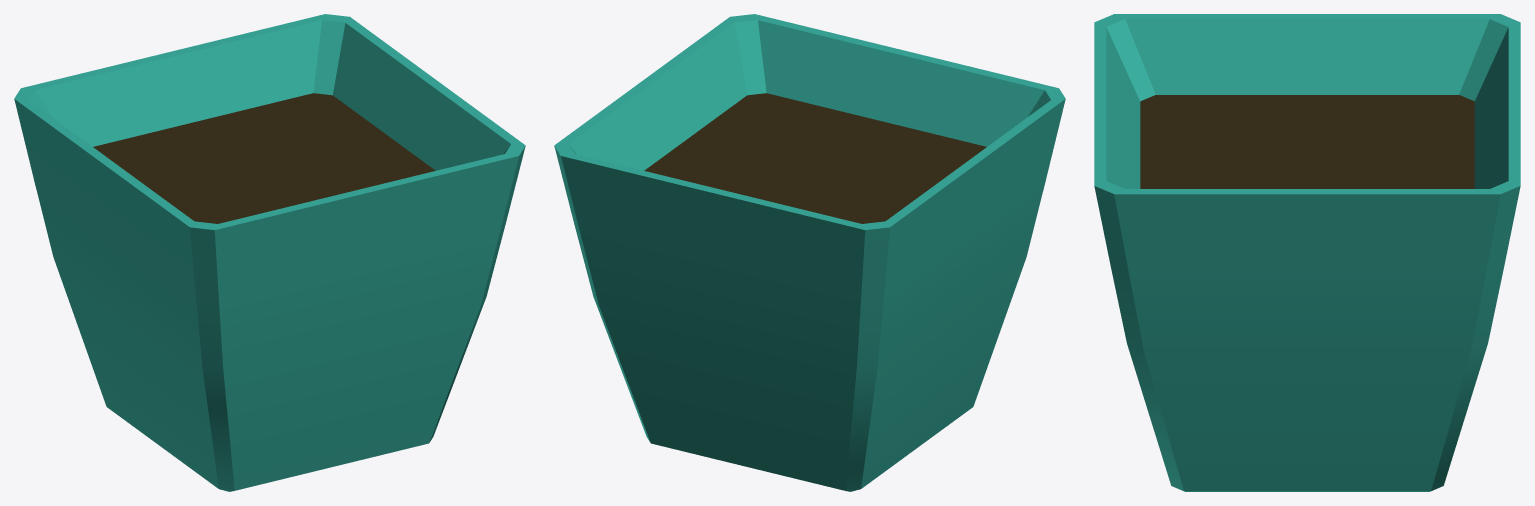
File: PlantPot-Large_04.fbx
The picture shows the model from 3 angles, left to right: view 1: azimuth 30°, elevation 25°; view 2: azimuth 150°, elevation 25°; view 3: azimuth 270°, elevation 25°; orthographic projection. The views are drawn at different scales.
Parts seen in each view (by area): view 1: PlantPotLarge_04; view 2: PlantPotLarge_04; view 3: PlantPotLarge_04.
Part boxes in pixels (box(x1,y1,x2,y2)): PlantPotLarge_04: box(14, 14, 525, 491); PlantPotLarge_04: box(554, 14, 1065, 491); PlantPotLarge_04: box(1094, 14, 1520, 491).
Bounding box in the file's own units: 0.3577 × 0.3113 × 0.3577.
